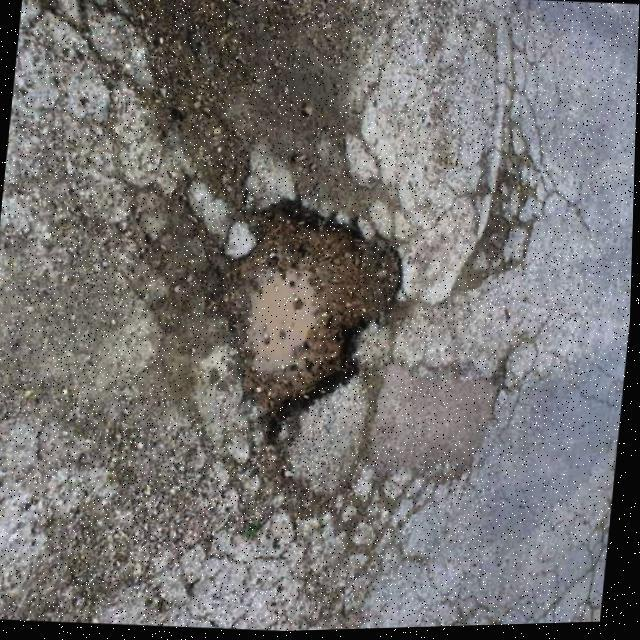pothole: (207, 182, 413, 438)
